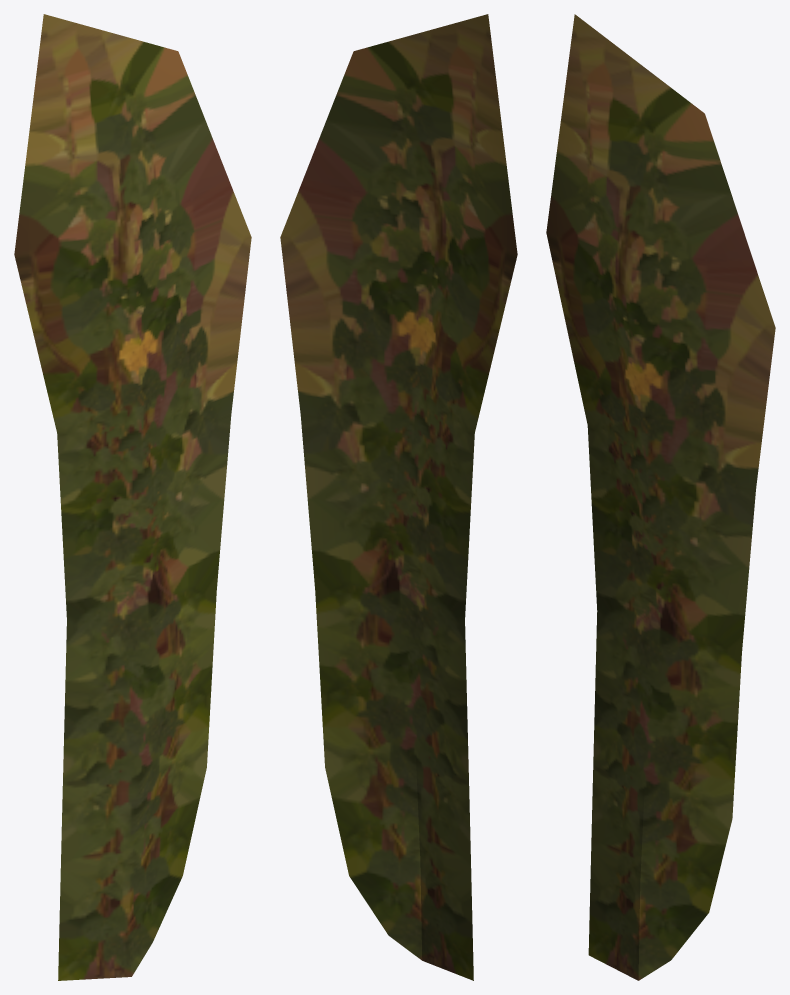
Rendered from Japanese_MG_lowpoly_var6.fbx.
The picture shows the model from 3 angles, left to right: view 1: azimuth 30°, elevation 25°; view 2: azimuth 150°, elevation 25°; view 3: azimuth 330°, elevation 25°; orthographic projection. The views are drawn at different scales.
Parts seen in each view (by area): view 1: Japanese_MG_lowpoly_var6_LOD0; view 2: Japanese_MG_lowpoly_var6_LOD0; view 3: Japanese_MG_lowpoly_var6_LOD0.
Part boxes in pixels (bbox=[...]): Japanese_MG_lowpoly_var6_LOD0: bbox=[14, 14, 251, 980]; Japanese_MG_lowpoly_var6_LOD0: bbox=[280, 14, 517, 980]; Japanese_MG_lowpoly_var6_LOD0: bbox=[546, 14, 775, 980].
Size of what is drawn, in the model's own units: 81.96 by 321 by 10.04.
